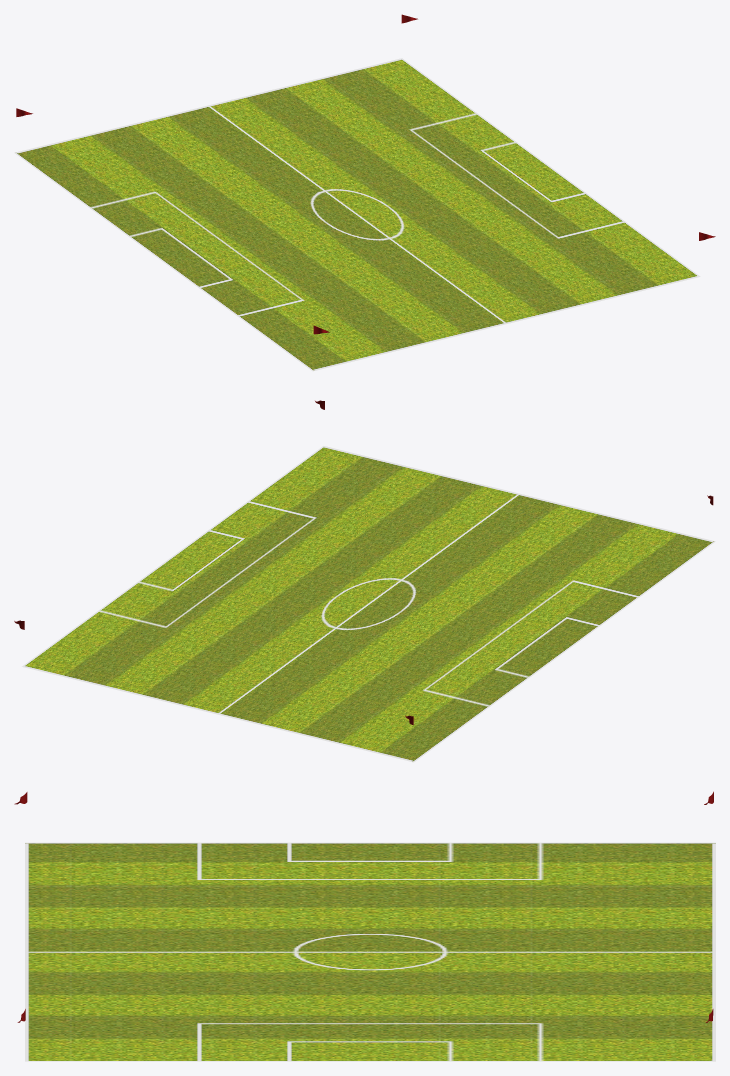
File: Field.FBX
3 views of the same model, one above another, from view 1: azimuth 30°, elevation 25°; view 2: azimuth 150°, elevation 25°; view 3: azimuth 270°, elevation 25° (orthographic). The views are drawn at different scales.
Parts seen in each view (by area): view 1: Veld; view 2: Veld; view 3: Veld.
Boxes of the visible parts, x1=… form: Veld: x1=14, y1=58, x2=700, y2=371; Veld: x1=22, y1=446, x2=715, y2=762; Veld: x1=25, y1=842, x2=715, y2=1061.
Size of the model in its own units: 928 by 99.5 by 1219.
